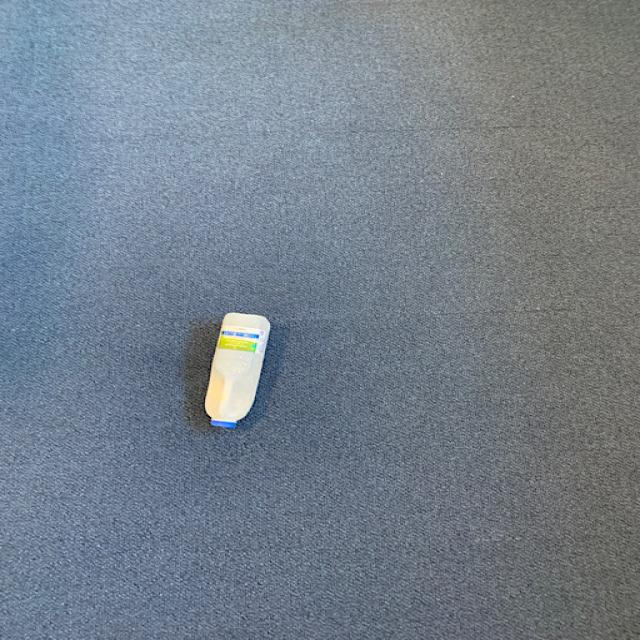litter: (201, 306, 270, 433)
